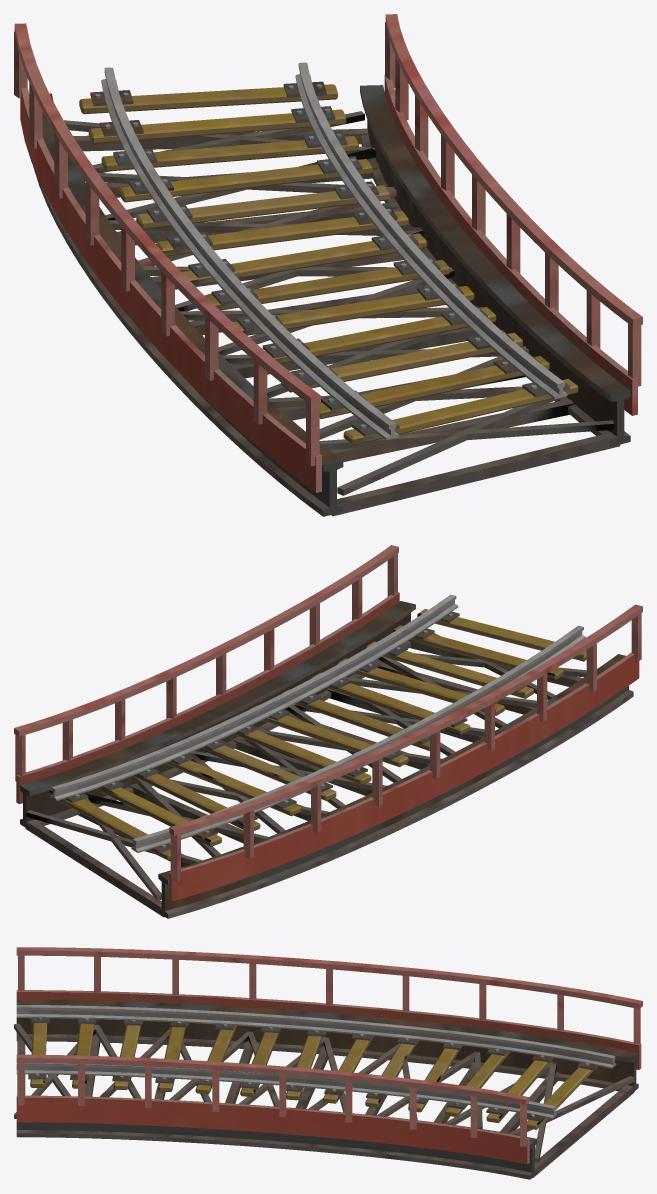
File: elevated-curved-rail-a-ne.glb
The picture shows the model from 3 angles, top to bottom: view 1: azimuth 30°, elevation 25°; view 2: azimuth 150°, elevation 25°; view 3: azimuth 270°, elevation 25°; orthographic projection. The views are drawn at different scales.
Visible parts, largest first — view 1: body; view 2: body; view 3: body.
Boxes of the visible parts, left/top/right/bottom form: body: left=14, top=14, right=642, bottom=516; body: left=14, top=545, right=642, bottom=918; body: left=14, top=947, right=642, bottom=1179.
Size of the model in its own units: 3.19 by 0.825 by 5.54.
1 material, 1 textured.
